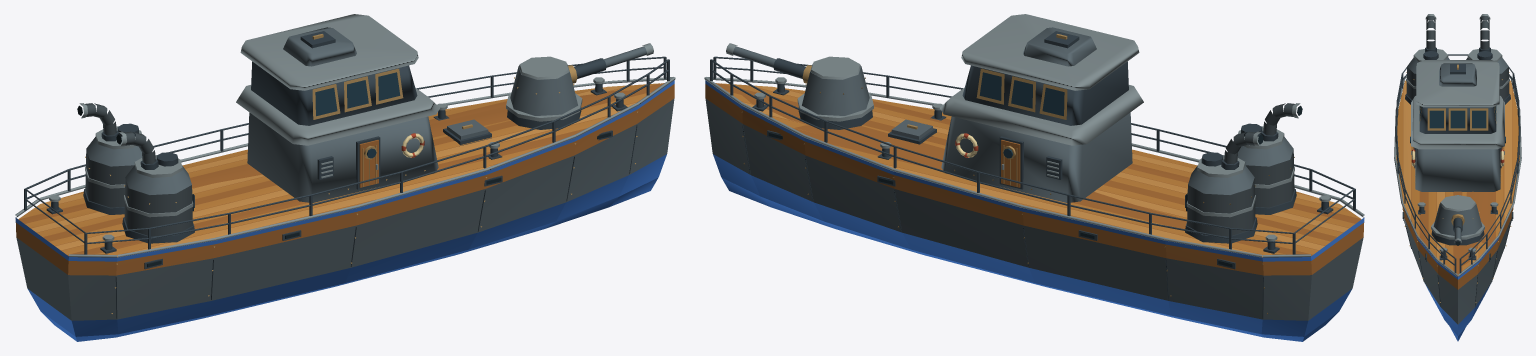
The picture shows the model from 3 angles, left to right: view 1: azimuth 30°, elevation 25°; view 2: azimuth 150°, elevation 25°; view 3: azimuth 270°, elevation 25°; orthographic projection. The views are drawn at different scales.
Visible parts, largest first — view 1: hull-armored-flanks, hull-lower-team, deckhouse-armored-base, hull-timber-strake, bridge-roof-overhang, deck-dark-seams, deckhouse-sloped-eaves, bridge-window-body, gunwale-team, boiler-body-1, gun-tapered-shield, deck-plank-12 (+31 smaller); view 2: hull-armored-flanks, hull-lower-team, deckhouse-armored-base, hull-timber-strake, bridge-roof-overhang, deck-dark-seams, deckhouse-sloped-eaves, bridge-window-body, gunwale-team, boiler-body--1, gun-tapered-shield, stern-transom-2 (+32 smaller); view 3: deckhouse-armored-base, bridge-roof-overhang, hull-armored-flanks, deckhouse-sloped-eaves, deck-dark-seams, hull-timber-strake, deck-plank-1, deck-plank-13, gun-tapered-shield, bridge-window-body, bridge-roof-crown, deck-plank-0 (+32 smaller).
Part boxes in pixels (<box>): hull-armored-flanks: <box>68,98,674,320</box>; hull-lower-team: <box>71,154,666,336</box>; deckhouse-armored-base: <box>247,112,438,202</box>; hull-timber-strake: <box>68,84,674,275</box>; bridge-roof-overhang: <box>240,14,418,90</box>; deck-dark-seams: <box>18,83,662,254</box>; deckhouse-sloped-eaves: <box>236,85,439,145</box>; bridge-window-body: <box>251,61,417,125</box>; gunwale-team: <box>68,80,674,261</box>; boiler-body-1: <box>124,178,192,236</box>; gun-tapered-shield: <box>510,64,577,115</box>; deck-plank-12: <box>95,145,545,254</box>; hull-armored-flanks: <box>705,98,1311,320</box>; hull-lower-team: <box>713,154,1308,336</box>; deckhouse-armored-base: <box>941,112,1132,202</box>; hull-timber-strake: <box>705,84,1311,275</box>; bridge-roof-overhang: <box>961,14,1139,90</box>; deck-dark-seams: <box>717,83,1360,254</box>; deckhouse-sloped-eaves: <box>940,85,1143,145</box>; bridge-window-body: <box>962,61,1128,125</box>; gunwale-team: <box>705,80,1311,261</box>; boiler-body--1: <box>1187,178,1255,236</box>; gun-tapered-shield: <box>802,64,869,115</box>; stern-transom-2: <box>1308,237,1363,320</box>; deckhouse-armored-base: <box>1415,148,1500,191</box>; bridge-roof-overhang: <box>1416,60,1499,107</box>; hull-armored-flanks: <box>1404,219,1511,324</box>; deckhouse-sloped-eaves: <box>1411,96,1504,149</box>; deck-dark-seams: <box>1403,87,1512,276</box>; hull-timber-strake: <box>1402,206,1513,289</box>; deck-plank-1: <box>1504,80,1512,220</box>; deck-plank-13: <box>1403,80,1411,219</box>; gun-tapered-shield: <box>1433,204,1482,235</box>; bridge-window-body: <box>1419,107,1496,133</box>; bridge-roof-crown: <box>1439,63,1476,86</box>; deck-plank-0: <box>1512,89,1519,200</box>.
Size of the model in its own units: 1.65 by 0.5885 by 0.4164.
